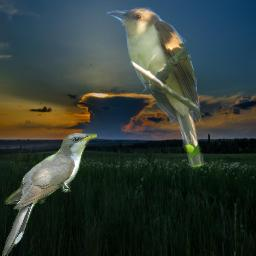Cuckoo: (104, 6, 207, 175), (2, 133, 97, 256)
